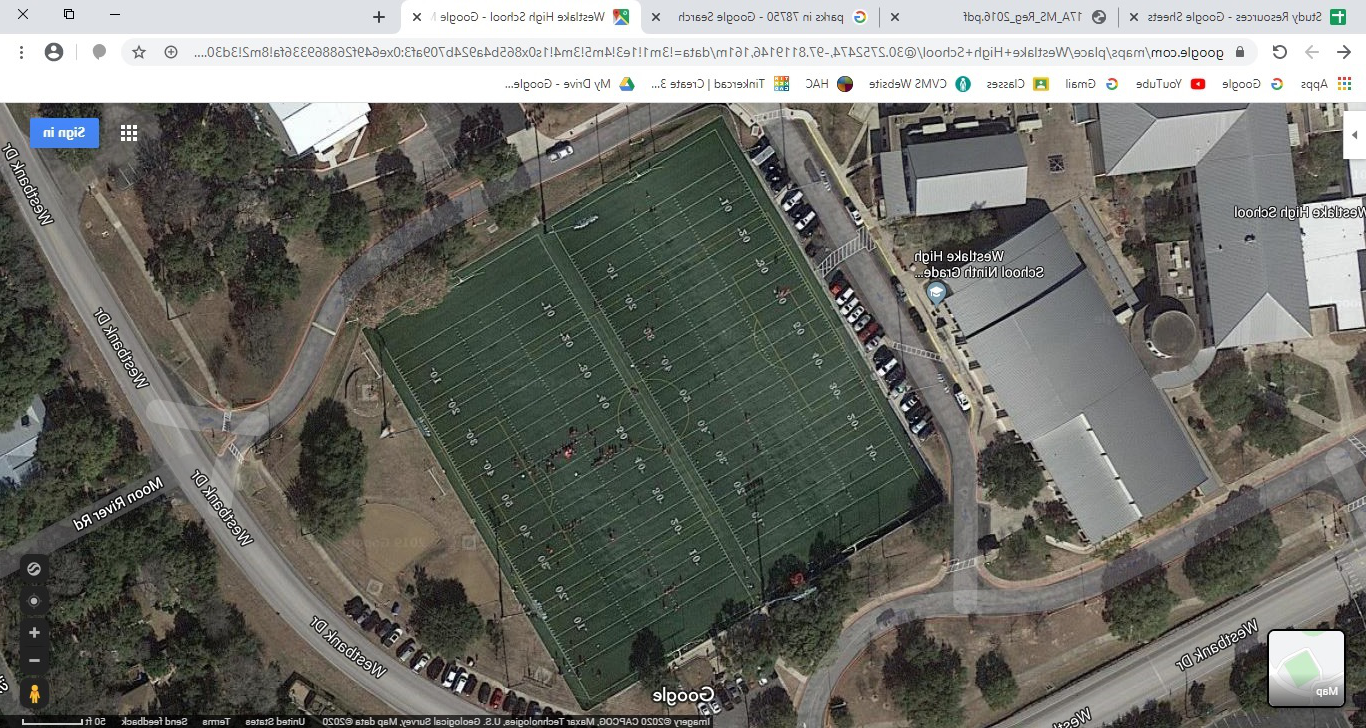football: (350, 260, 704, 690)
